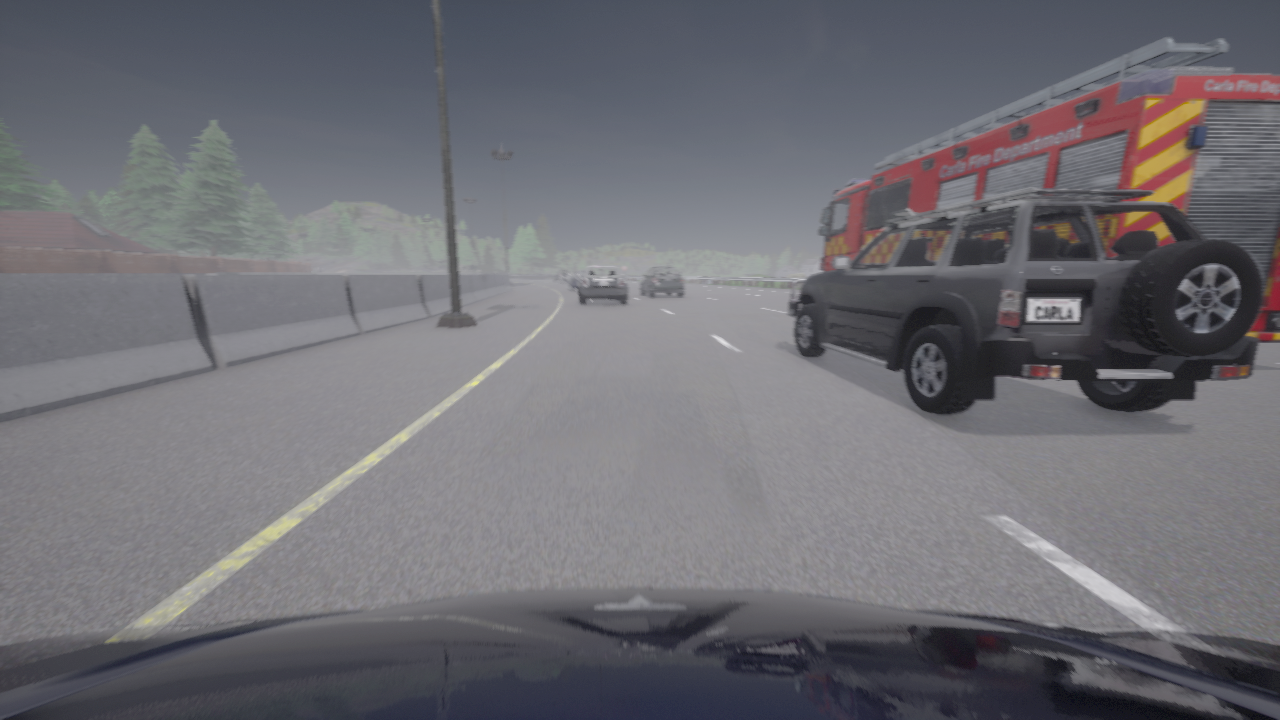cyclist: (0, 588, 1279, 719), (819, 38, 1279, 341), (788, 189, 1262, 414), (576, 266, 627, 304), (640, 266, 683, 297), (567, 270, 584, 291), (553, 270, 570, 282)
